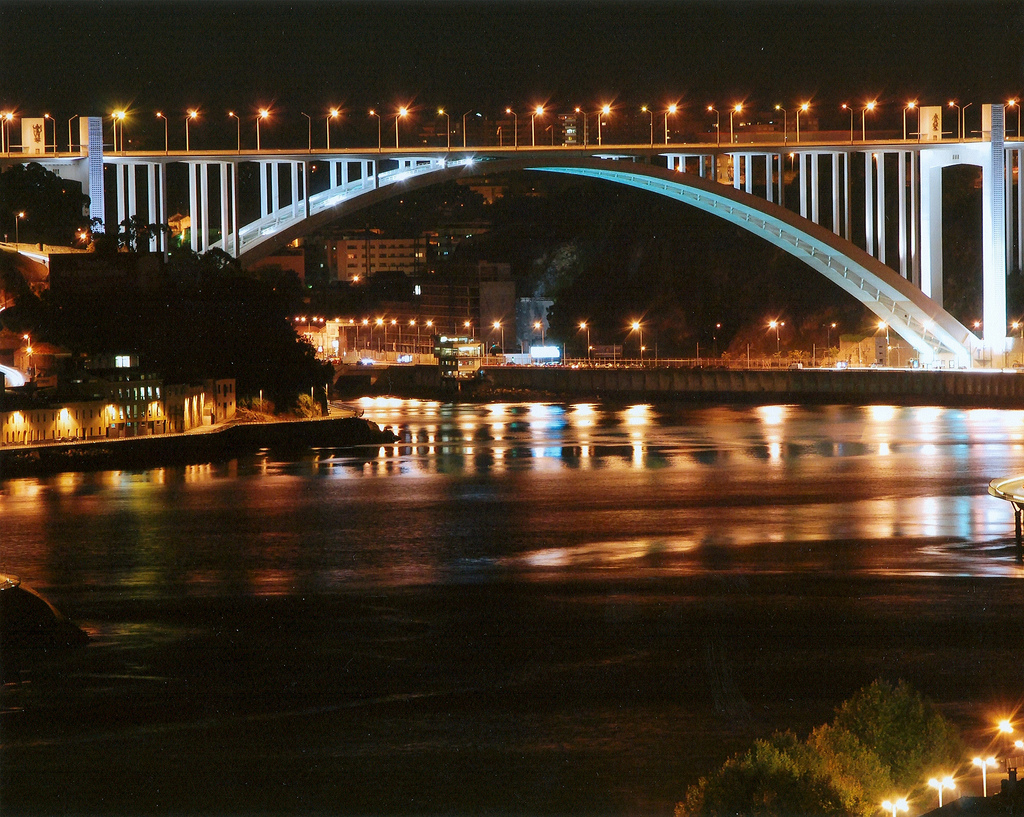arrabida: (0, 101, 1023, 369)
